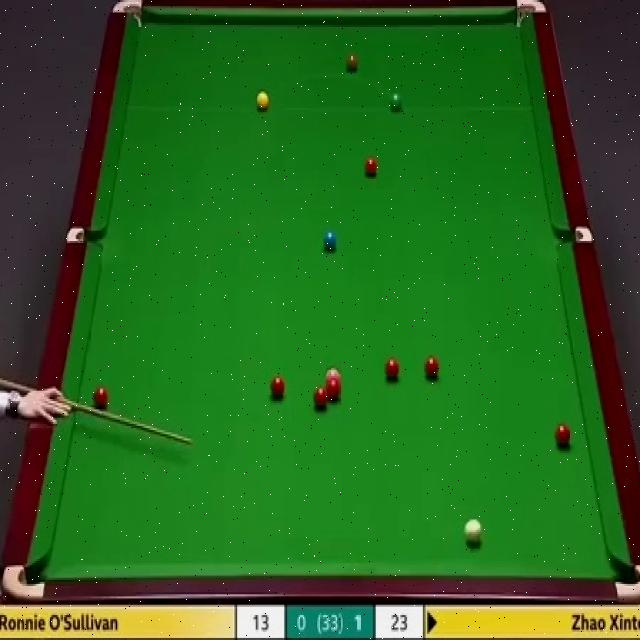blue-ball: (322, 228, 336, 252)
brown-ball: (346, 53, 358, 73)
green-ball: (389, 91, 402, 112)
pink-ball: (325, 368, 341, 382)
red-ball: (93, 384, 109, 412), (383, 358, 400, 382), (555, 425, 572, 448), (324, 380, 342, 401), (362, 156, 379, 178), (424, 356, 439, 380), (270, 376, 285, 399), (313, 388, 329, 409)
white-ball: (464, 517, 483, 548)
yellow-ball: (256, 89, 270, 111)
